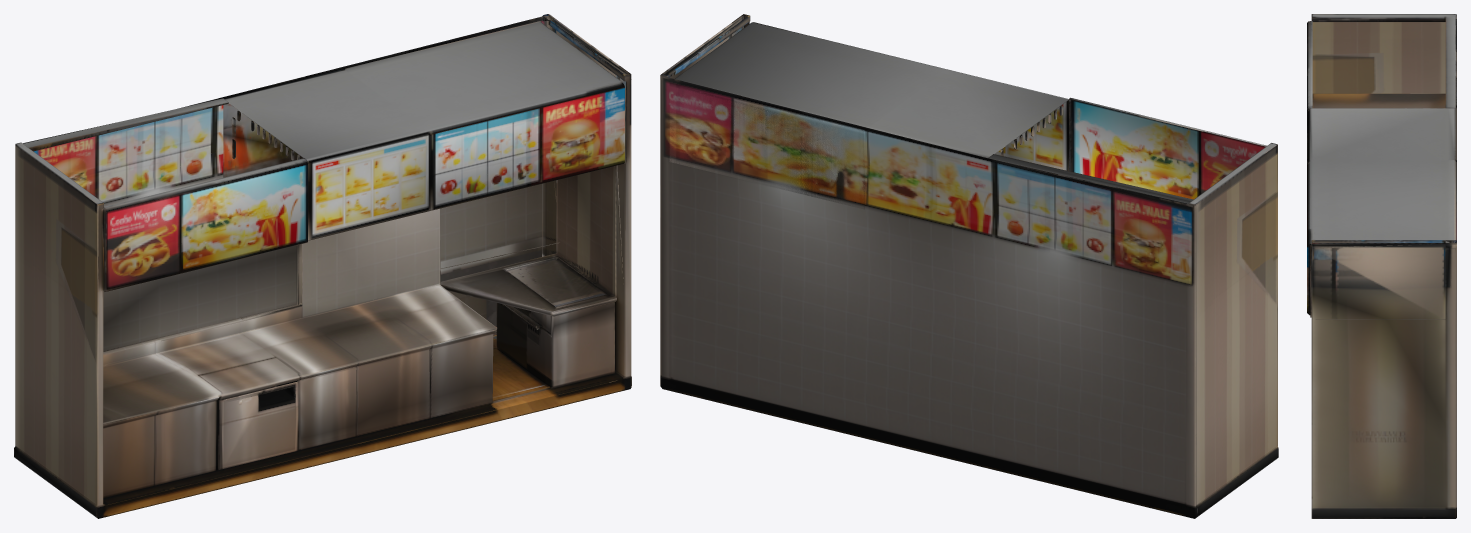
File: Meshy_AI_Food_Court_Display_0107180327_texture.fbx
3 views of the same model, side by side, from view 1: azimuth 30°, elevation 25°; view 2: azimuth 150°, elevation 25°; view 3: azimuth 270°, elevation 25° (orthographic). The views are drawn at different scales.
Visible parts, largest first — view 1: Mesh_0; view 2: Mesh_0; view 3: Mesh_0.
Part boxes in pixels (bbox=[...]): Mesh_0: bbox=[14, 14, 631, 518]; Mesh_0: bbox=[660, 14, 1278, 518]; Mesh_0: bbox=[1307, 14, 1456, 518].
Size of the model in its own units: 191 by 107 by 52.45.
1 material, 1 textured.
